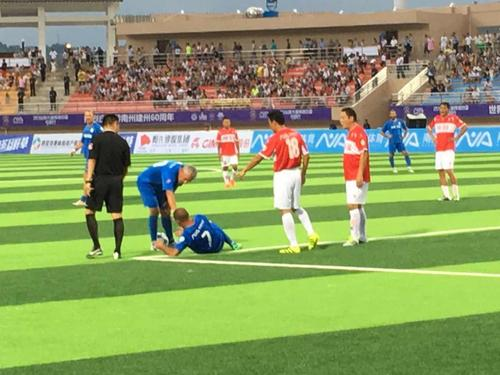10+: (1, 30, 500, 260)
down: (152, 206, 245, 262)
